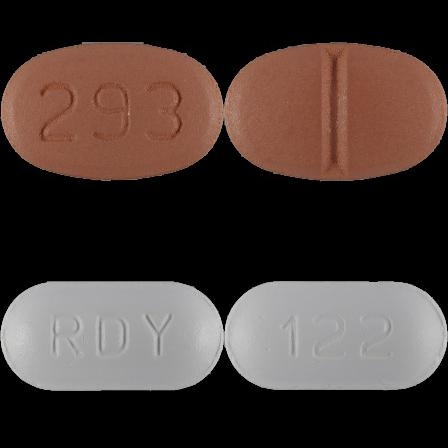61786-772: (0, 0, 224, 224)
